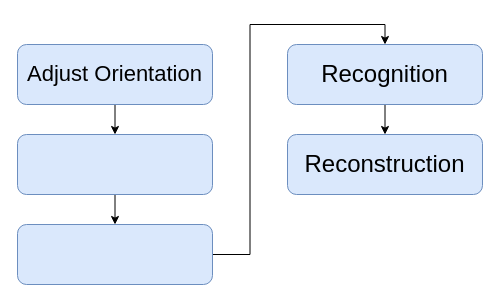
Image size: 500x302. Some labels were removed from this diagram. The shapes that lost their labels are listed below. From the top down, each one's centre as x and y in pixels, then its label:
point 114,164: Voxelization
point 114,254: Segmentation
